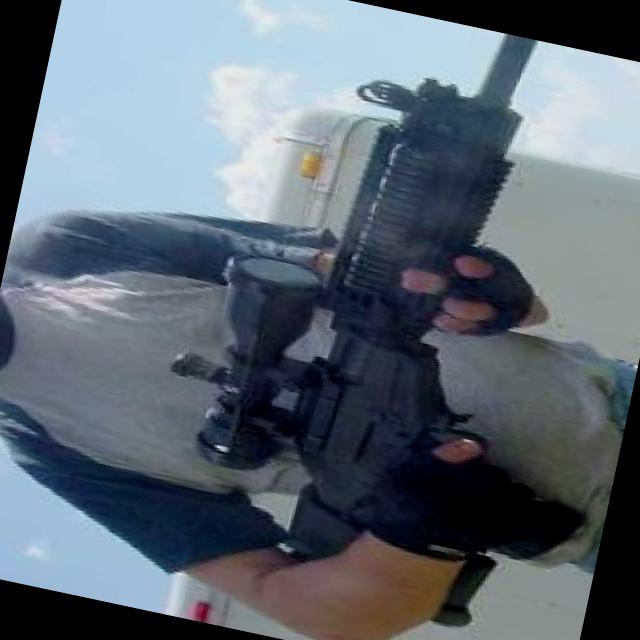long weapon: (155, 0, 610, 639)
